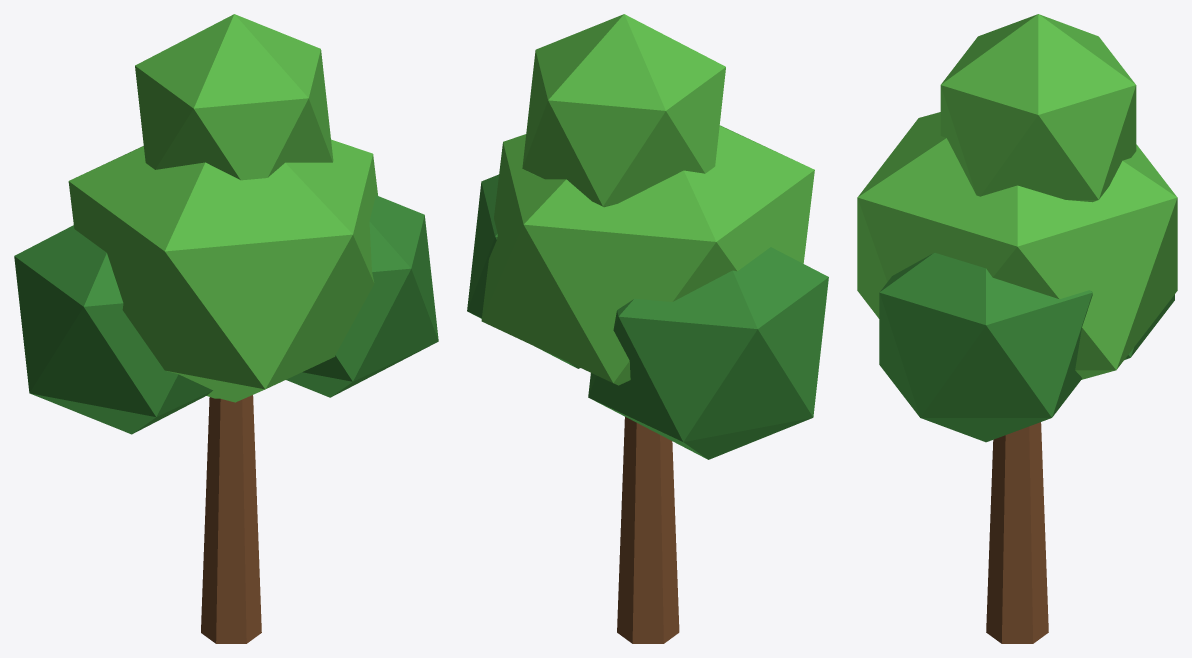
The model's file is PRP_Tree.fbx.
3 renders of one model, left to right at view 1: azimuth 30°, elevation 25°; view 2: azimuth 150°, elevation 25°; view 3: azimuth 270°, elevation 25°, orthographic. The views are drawn at different scales.
Visible parts, largest first — view 1: PRP_Tree; view 2: PRP_Tree; view 3: PRP_Tree.
Part boxes in pixels (<box>): PRP_Tree: <box>14,14,438,643</box>; PRP_Tree: <box>467,14,828,643</box>; PRP_Tree: <box>857,14,1177,643</box>.
Bounding box in the file's own units: 8.17 × 13.2 × 6.12.
